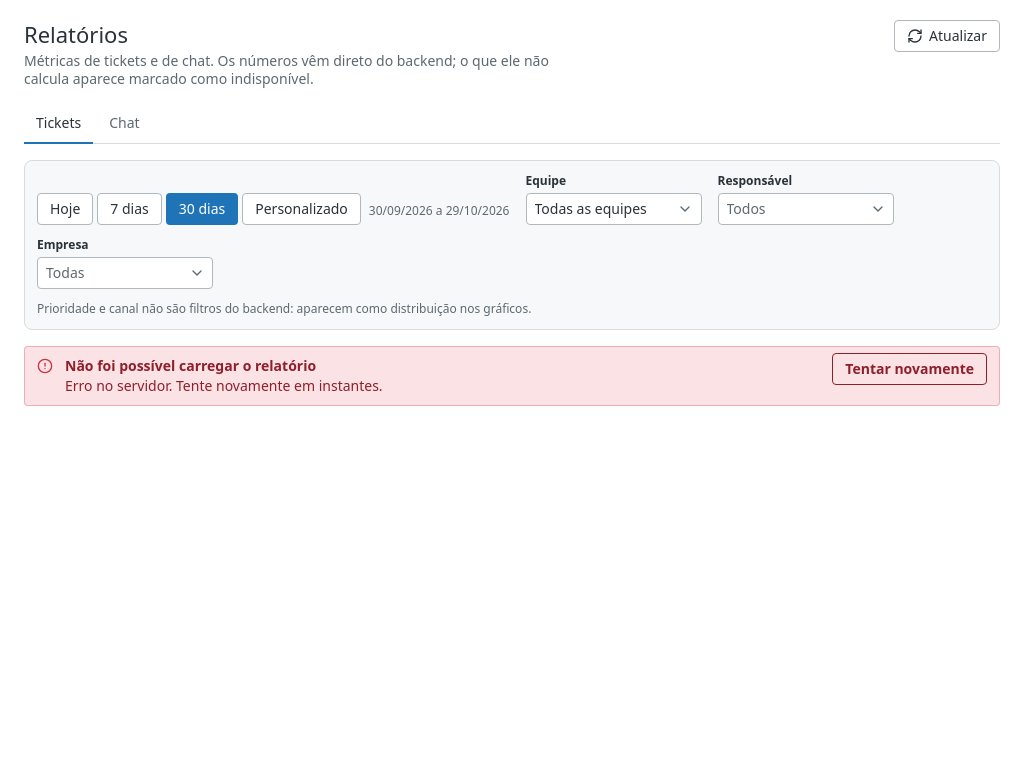
Test: Relatórios › erro mostra "Tentar novamente" e recupera
expect the text "Erro no servidor. Tente novamente em instantes." is shown: met, box left=65, top=376, right=383, bottom=395
Click the button "Tentar novamente".
click(910, 369)  # box left=832, top=353, right=987, bottom=385
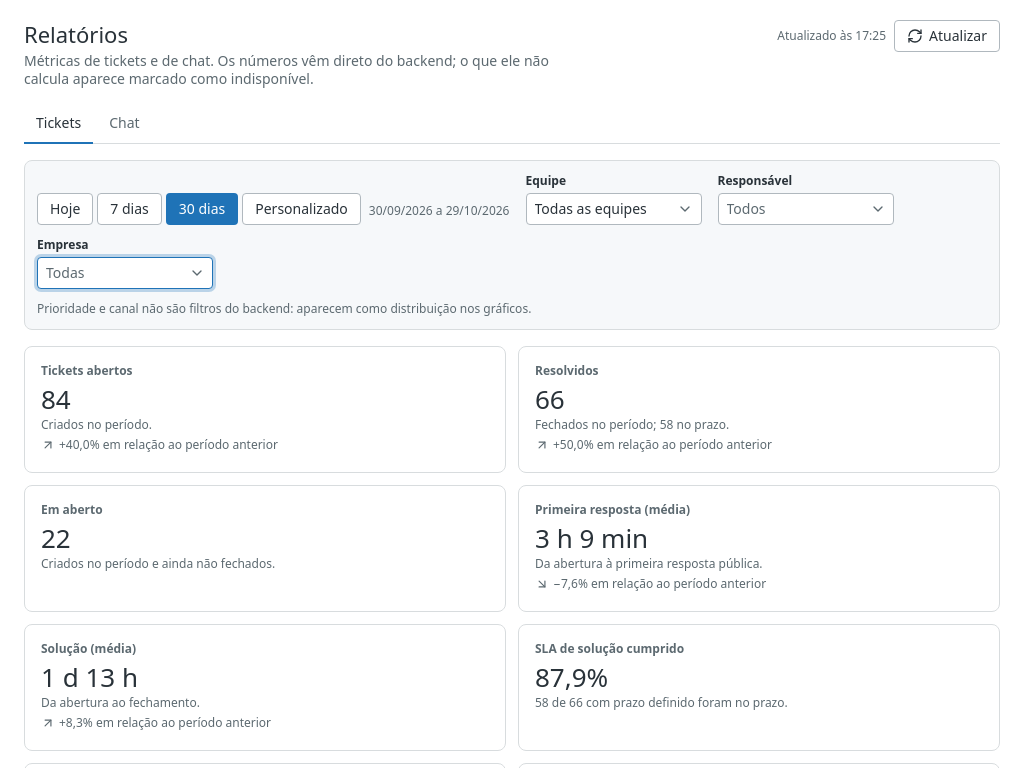
expect the text "Tickets abertos" is shown: met, box left=41, top=362, right=133, bottom=379
